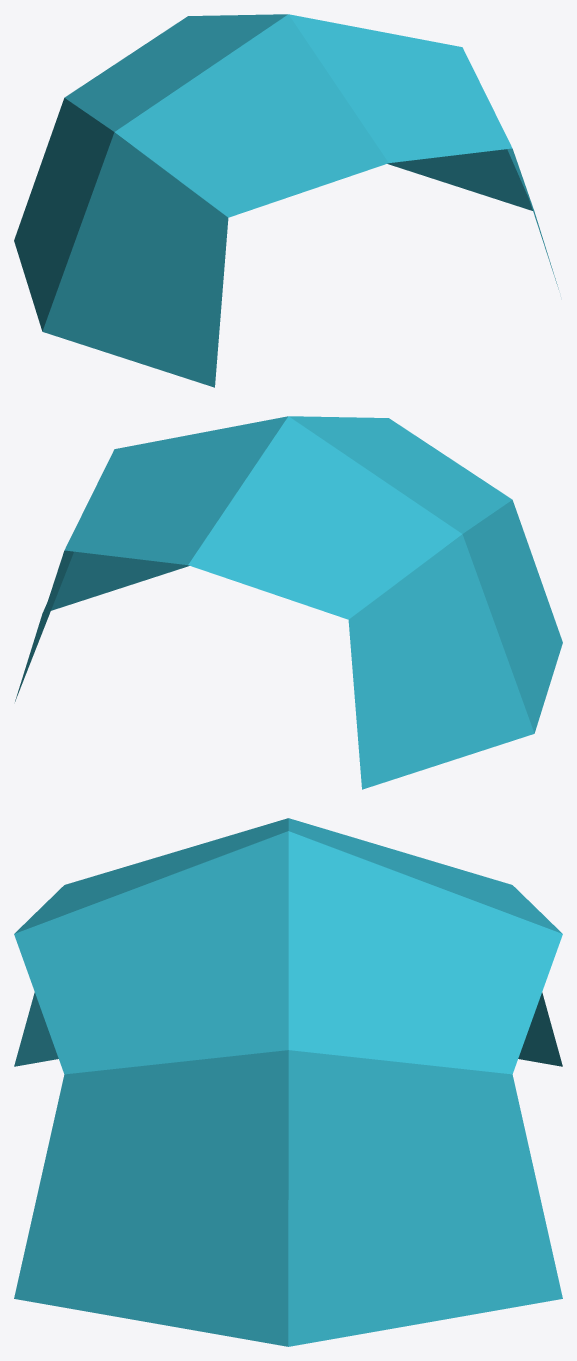
Rendered from Escudo.fbx.
3 views of the same model, one above another, from view 1: azimuth 30°, elevation 25°; view 2: azimuth 150°, elevation 25°; view 3: azimuth 270°, elevation 25° (orthographic). The views are drawn at different scales.
Visible parts, largest first — view 1: Cube; view 2: Cube; view 3: Cube.
Part boxes in pixels (<box>): Cube: <box>14,14,558,387</box>; Cube: <box>15,416,562,789</box>; Cube: <box>14,818,562,1346</box>.
Bounding box in the file's own units: 813 × 407 × 575.
